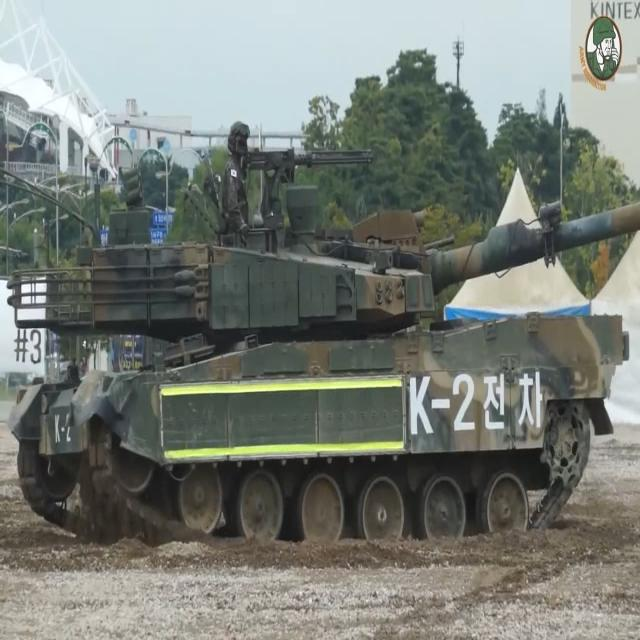korea tank: (2, 117, 640, 550)
